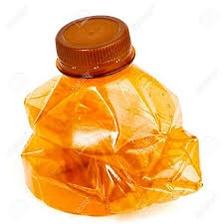bottle: (16, 13, 208, 219)
